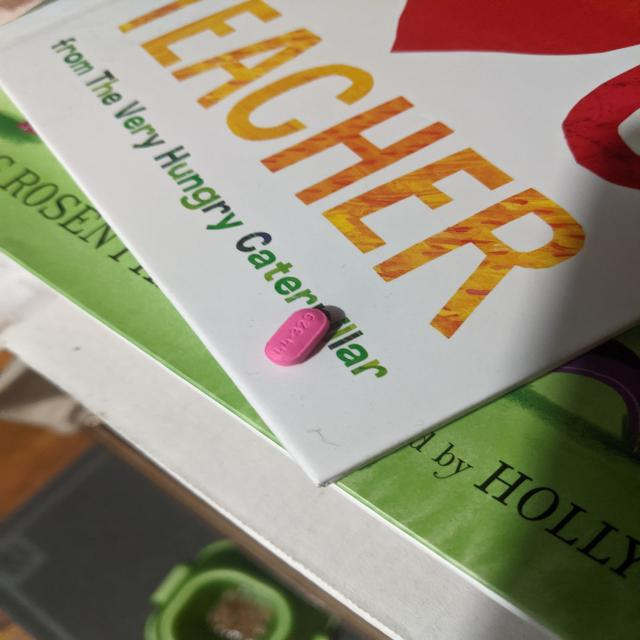non-organic waste: (263, 308, 331, 368)
